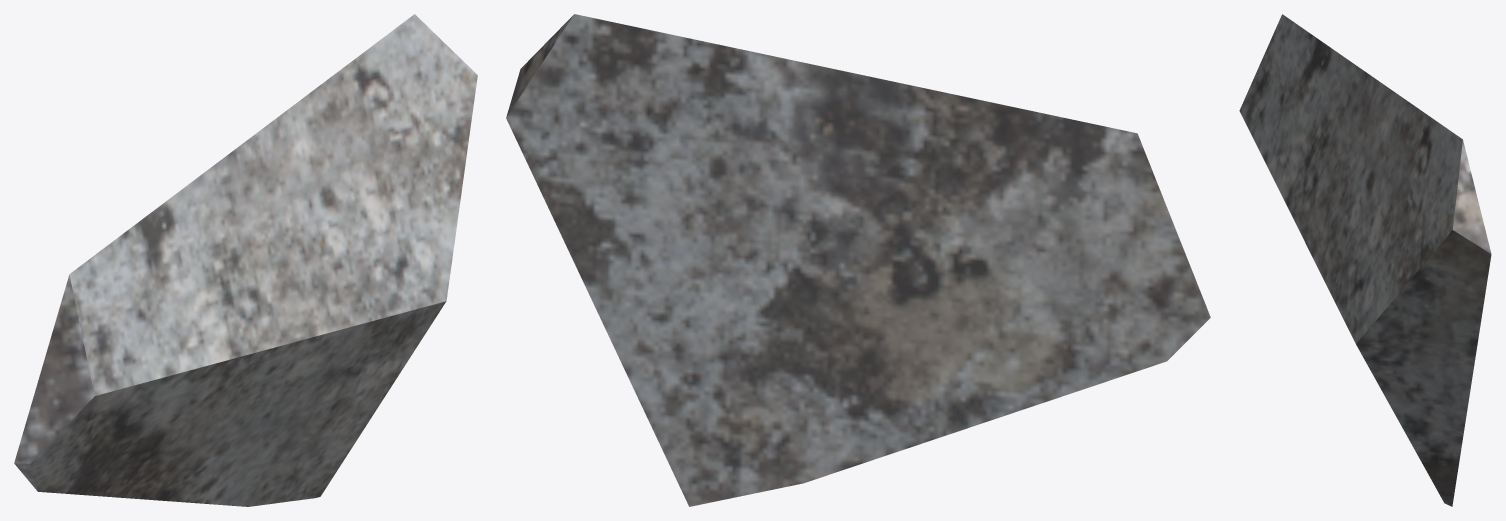
The model's file is Asteroid_Large_001_02_001_03_025.fbx.
3 renders of one model, left to right at view 1: azimuth 30°, elevation 25°; view 2: azimuth 150°, elevation 25°; view 3: azimuth 270°, elevation 25°, orthographic. The views are drawn at different scales.
Parts seen in each view (by area): view 1: Asteroid_Large_001_02_001_03_025; view 2: Asteroid_Large_001_02_001_03_025; view 3: Asteroid_Large_001_02_001_03_025.
Part boxes in pixels (x1,y1,x2,y2): Asteroid_Large_001_02_001_03_025: (14,14,477,506); Asteroid_Large_001_02_001_03_025: (506,14,1210,506); Asteroid_Large_001_02_001_03_025: (1239,14,1491,506).
Size of the model in its own units: 7.53 by 5.79 by 3.19.
